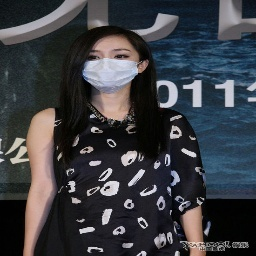correctlyWear: (80, 44, 150, 90)
